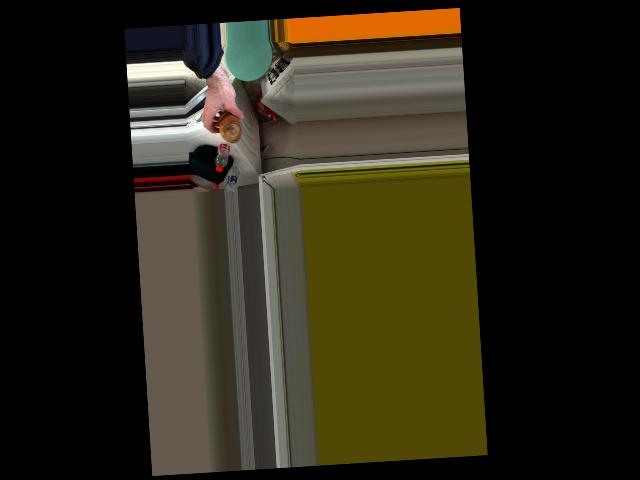sweet_potato: (215, 106, 245, 146)
